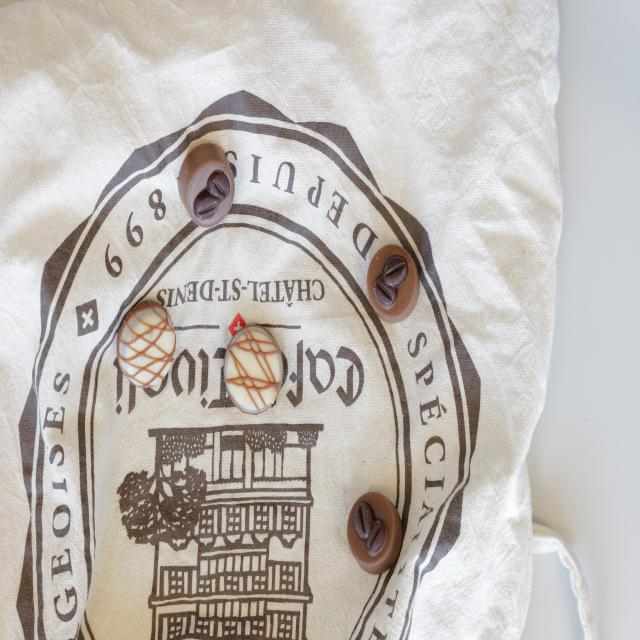Arabia: (346, 489, 402, 575), (178, 146, 235, 228), (368, 242, 420, 322)
Creme_brulee: (223, 322, 286, 415), (116, 300, 176, 388)
